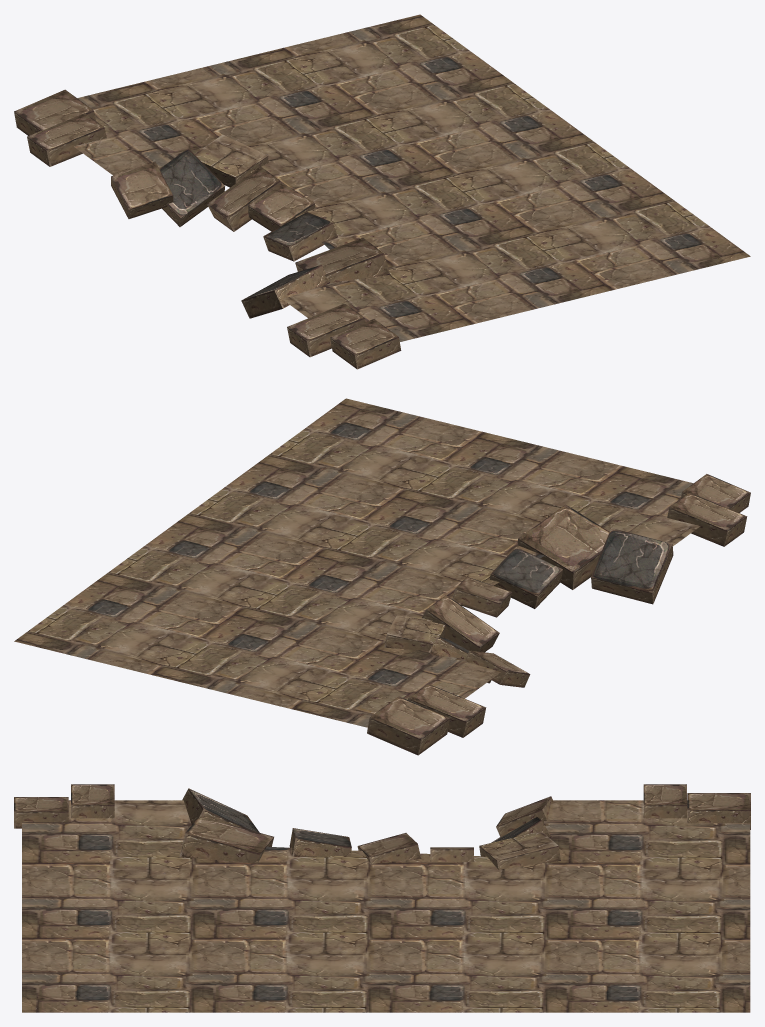
File: A03_battle_floor_a_broken.FBX
3 views of the same model, one above another, from view 1: azimuth 30°, elevation 25°; view 2: azimuth 150°, elevation 25°; view 3: azimuth 270°, elevation 25° (orthographic). The views are drawn at different scales.
Visible parts, largest first — view 1: A03_battle_floor_a_broken; view 2: A03_battle_floor_a_broken; view 3: A03_battle_floor_a_broken.
Boxes of the visible parts, left/top/right/bottom form: A03_battle_floor_a_broken: left=14, top=14, right=750, bottom=369; A03_battle_floor_a_broken: left=14, top=398, right=750, bottom=755; A03_battle_floor_a_broken: left=14, top=784, right=750, bottom=1012.
Size of the model in its own units: 8.72 by 1.2 by 11.99.
